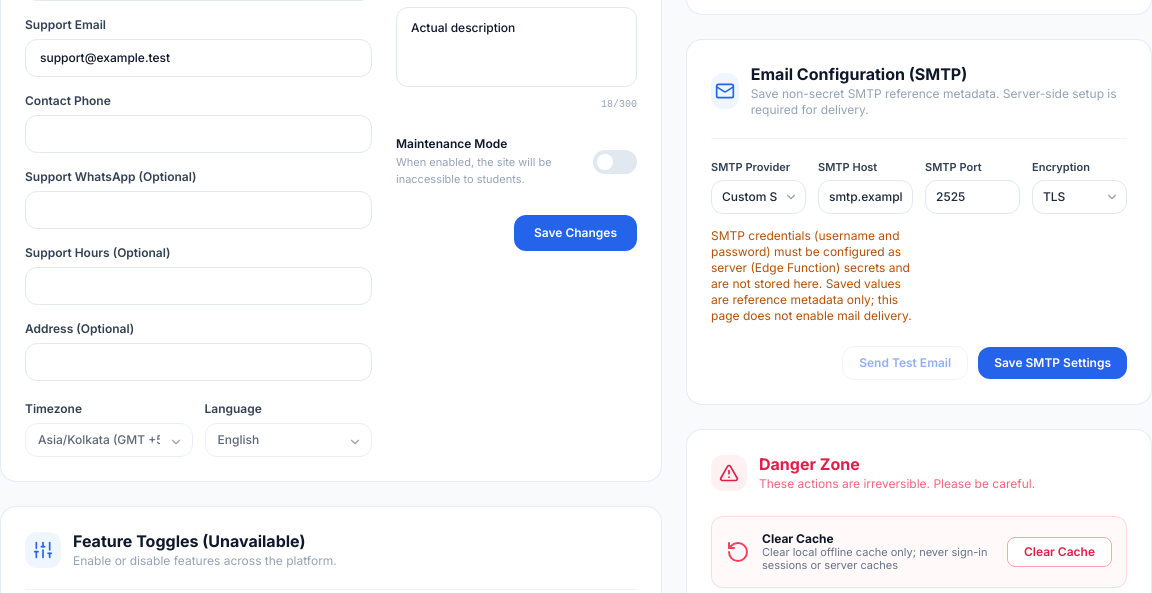
Truthful Settings workflows › distinguishes a successful save from a failed post-save refresh
(page scrolled)
Click the button "Save Changes". click: (575, 233)
box: [514,215,637,251]
(page scrolled)
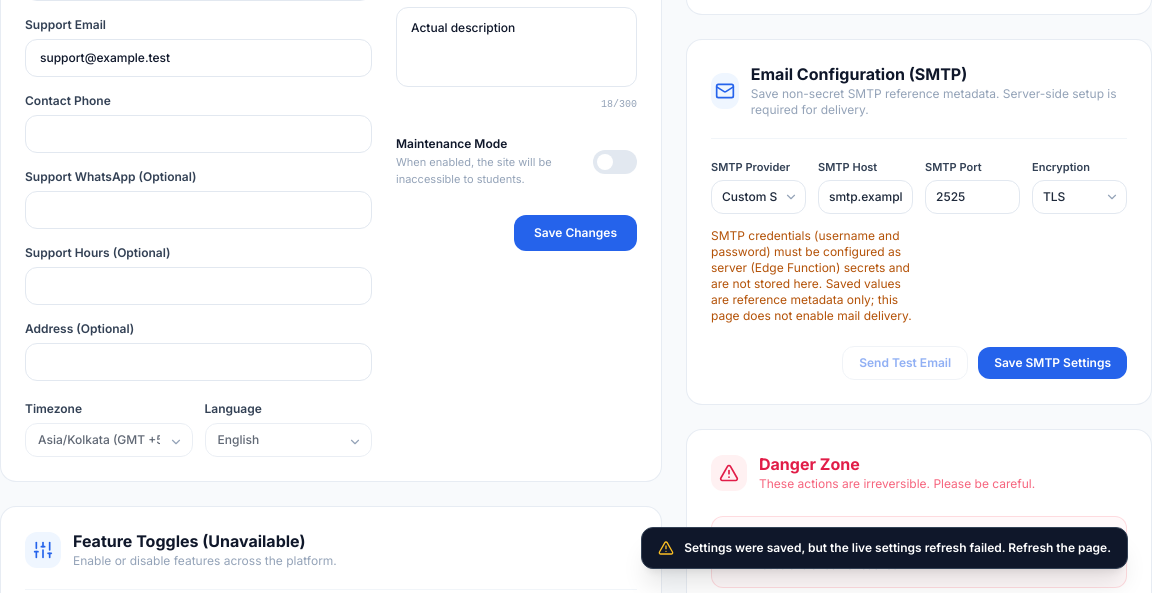
Check: the message shows "Settings were saved, but the live settings refresh failed", box [684,540,1111,555]
